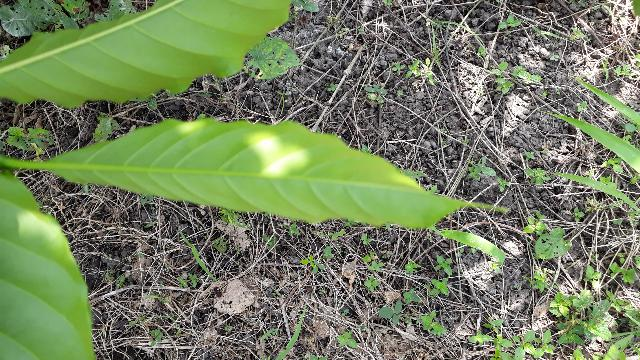healthy: (173, 133, 598, 243)
